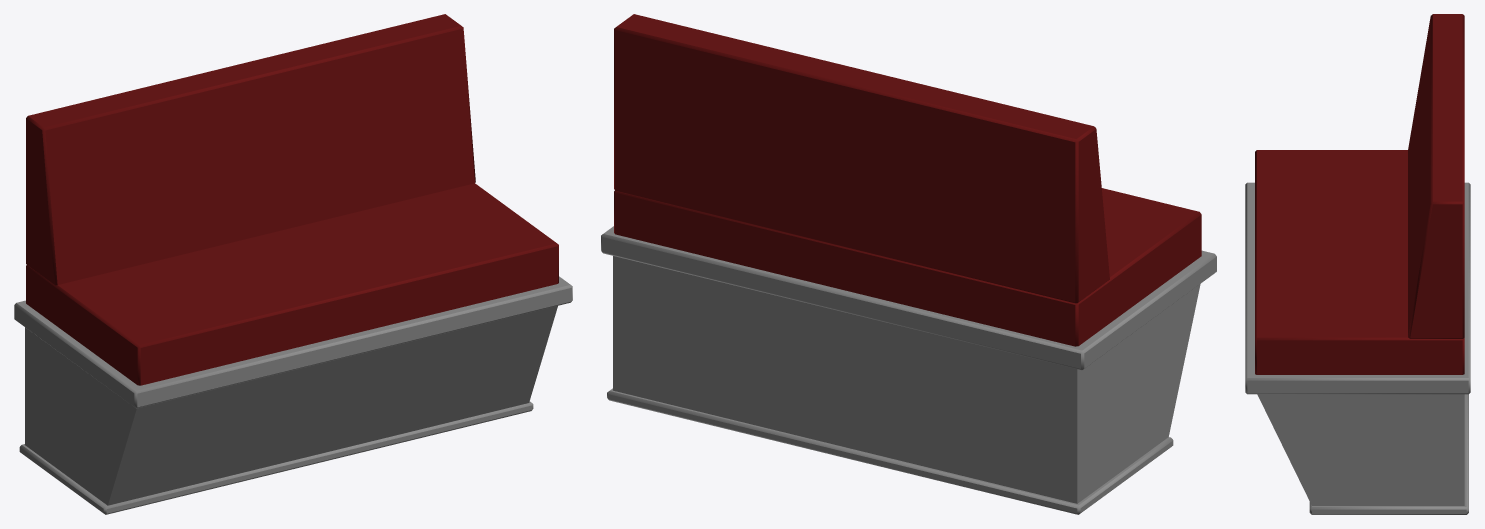
The model's file is train_seat__5c06813c8bdc.glb.
The picture shows the model from 3 angles, left to right: view 1: azimuth 30°, elevation 25°; view 2: azimuth 150°, elevation 25°; view 3: azimuth 270°, elevation 25°; orthographic projection. The views are drawn at different scales.
Visible parts, largest first — view 1: backrest, sloping_base, seat; view 2: sloping_base, backrest, seat; view 3: seat, sloping_base, backrest.
Boxes of the visible parts, <box> form: backrest: <box>26,14,475,285</box>; sloping_base: <box>14,276,572,514</box>; seat: <box>26,183,558,385</box>; sloping_base: <box>601,226,1216,514</box>; backrest: <box>614,14,1109,303</box>; seat: <box>614,188,1201,346</box>; seat: <box>1255,150,1464,374</box>; sloping_base: <box>1245,182,1470,514</box>; backrest: <box>1408,14,1464,338</box>.
Bounding box in the file's own units: 0.9 × 0.6635 × 0.4354.
